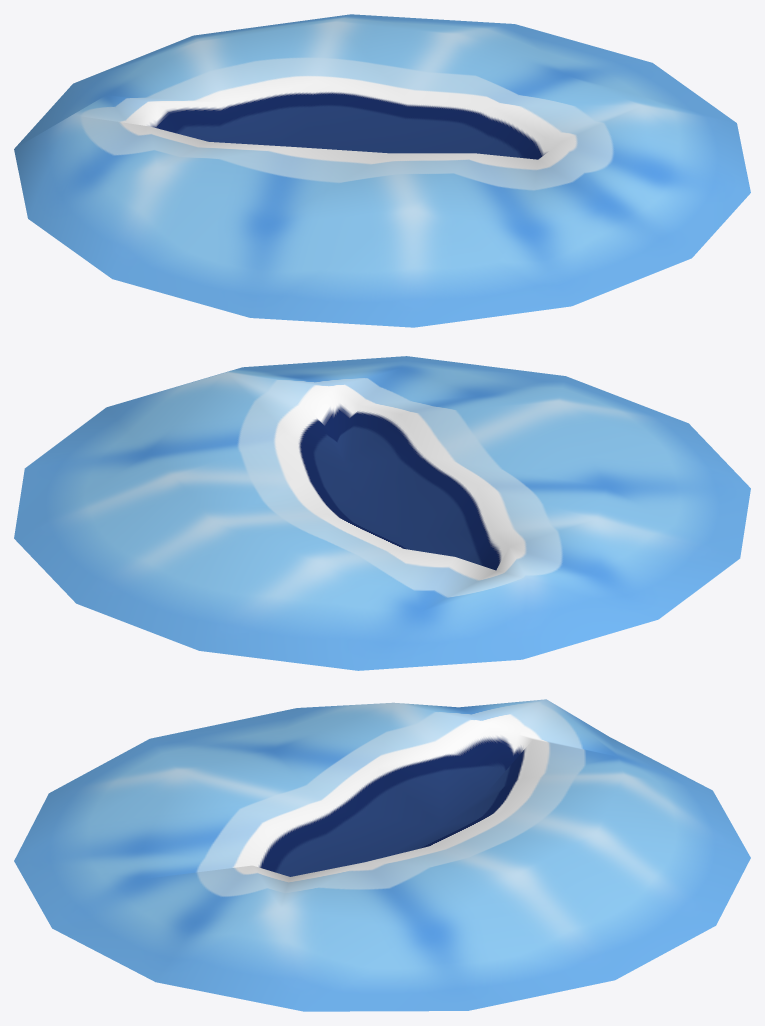
File: Bubble_Popped_C.fbx
The picture shows the model from 3 angles, top to bottom: view 1: azimuth 30°, elevation 25°; view 2: azimuth 150°, elevation 25°; view 3: azimuth 270°, elevation 25°; orthographic projection.
Parts seen in each view (by area): view 1: Bubble_Popped_C; view 2: Bubble_Popped_C; view 3: Bubble_Popped_C.
Boxes of the visible parts, <box> form: Bubble_Popped_C: <box>14,14,750,327</box>; Bubble_Popped_C: <box>14,356,750,670</box>; Bubble_Popped_C: <box>14,699,750,1011</box>.
Size of the model in its own units: 1.1 by 0.0922 by 1.13.
Materials: 1 (1 with a texture image).
